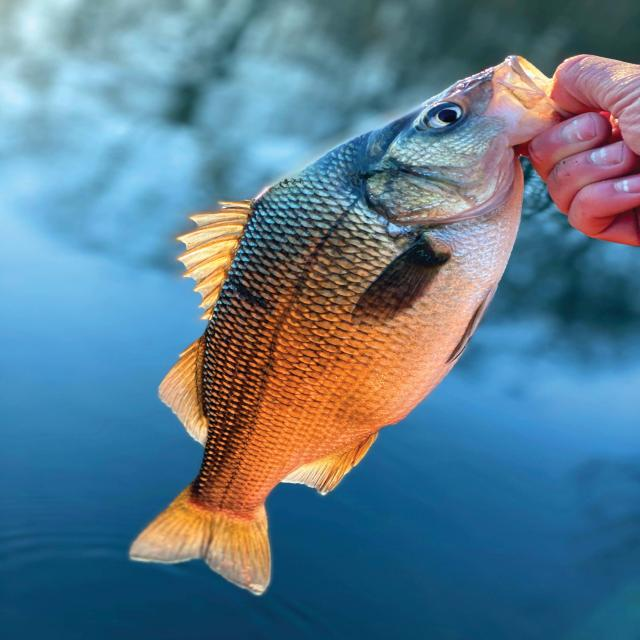Perch - White: (130, 56, 560, 594)
